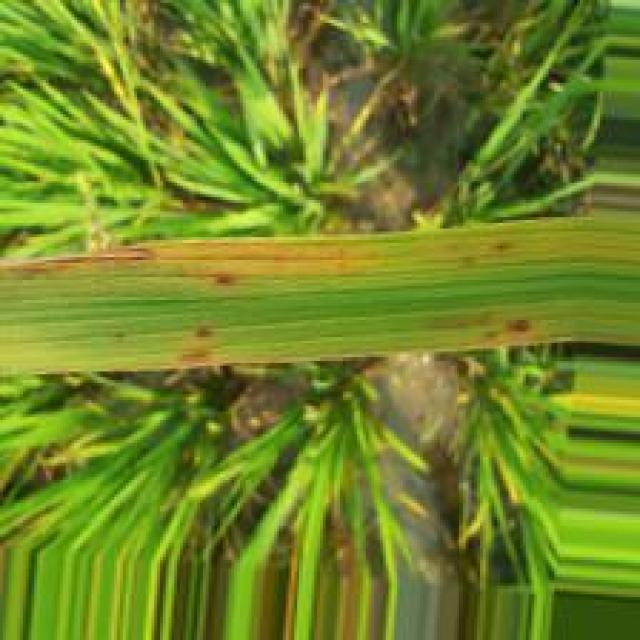Brown_Spot: (9, 247, 158, 281), (171, 343, 213, 366), (500, 314, 537, 335), (189, 321, 215, 342), (211, 269, 236, 289), (489, 236, 516, 251)
